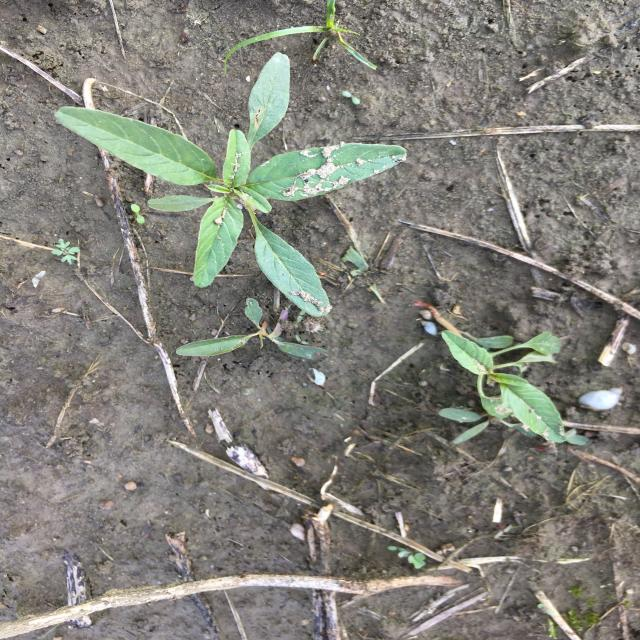Ragweed: (51, 236, 83, 267)
Waterhemp: (51, 51, 410, 320), (438, 329, 570, 445), (175, 296, 335, 362)
